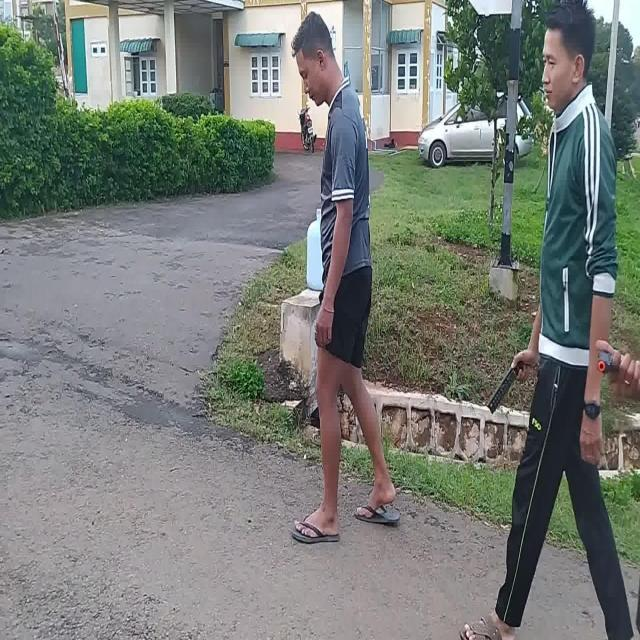gun: (597, 349, 611, 375)
